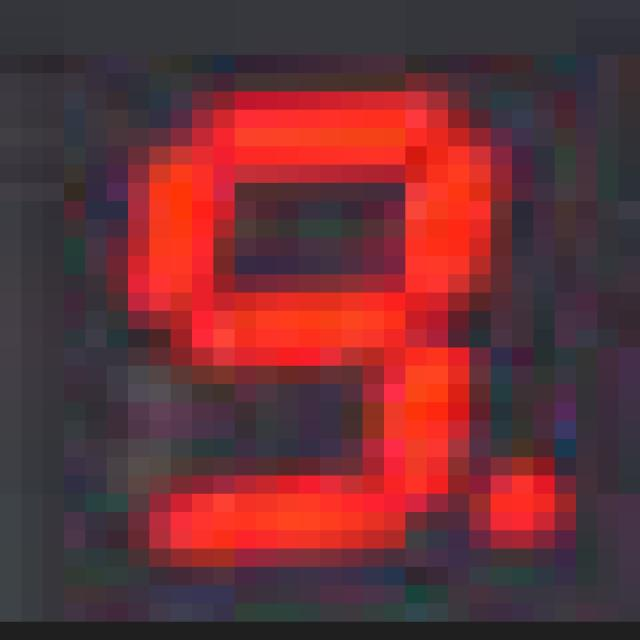.: (465, 439, 585, 559)
9: (74, 33, 554, 593)
